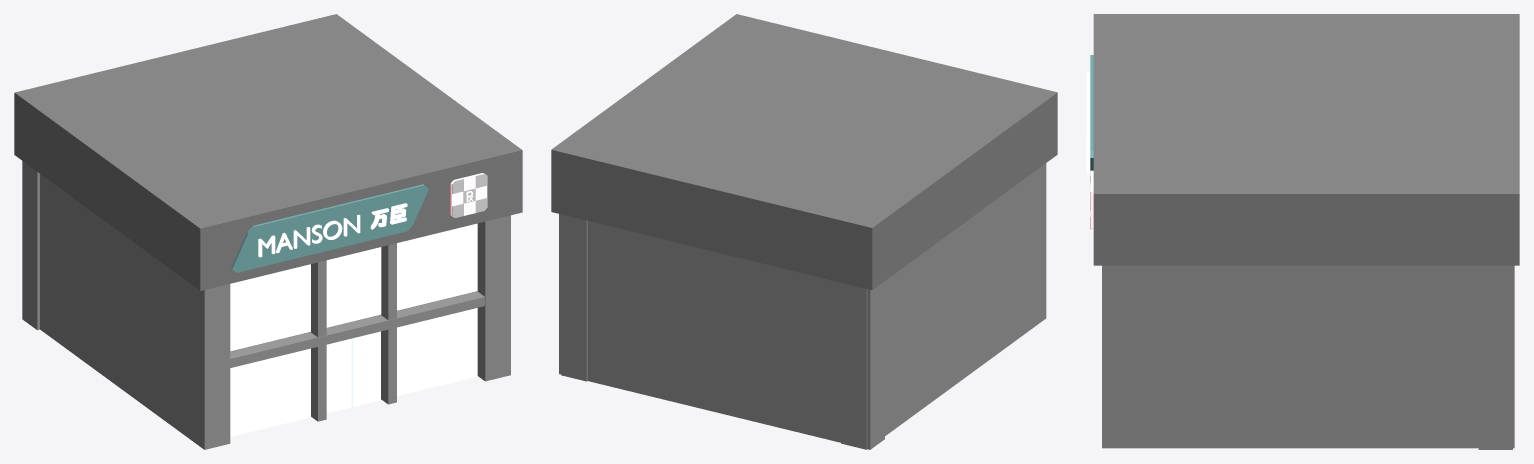
3 views of the same model, side by side, from view 1: azimuth 30°, elevation 25°; view 2: azimuth 150°, elevation 25°; view 3: azimuth 270°, elevation 25° (orthographic). The views are drawn at different scales.
Parts seen in each view (by area): view 1: Top, Wall Side, Sign, Cube.006, Cube.007, Cube.010, Cube.011, Wall Side 2, Cube.005, Cube.008, Wall Back, Cube.003 (+7 smaller); view 2: Top, Wall Back, Wall Side, Wall Side 2; view 3: Top, Wall Side 2, Wall Back, Sign.
Part boxes in pixels (x1,y1,x2,y2): Top: [14, 14, 522, 290]; Wall Side: [40, 174, 230, 449]; Sign: [231, 184, 428, 272]; Cube.006: [397, 308, 477, 396]; Cube.007: [230, 348, 310, 436]; Cube.010: [397, 223, 477, 310]; Cube.011: [230, 264, 310, 351]; Wall Side 2: [477, 215, 510, 381]; Cube.005: [230, 291, 484, 367]; Cube.008: [326, 247, 381, 327]; Wall Back: [22, 161, 39, 330]; Cube.003: [311, 260, 326, 421]; Top: [551, 14, 1057, 290]; Wall Back: [559, 214, 884, 449]; Wall Side: [841, 163, 1046, 449]; Wall Side 2: [561, 214, 587, 381]; Top: [1093, 14, 1519, 265]; Wall Side 2: [1102, 265, 1514, 448]; Wall Back: [1478, 265, 1512, 449]; Sign: [1090, 55, 1093, 170].
Bounding box in the file's own units: 13.26 × 8.89 × 13.48.
